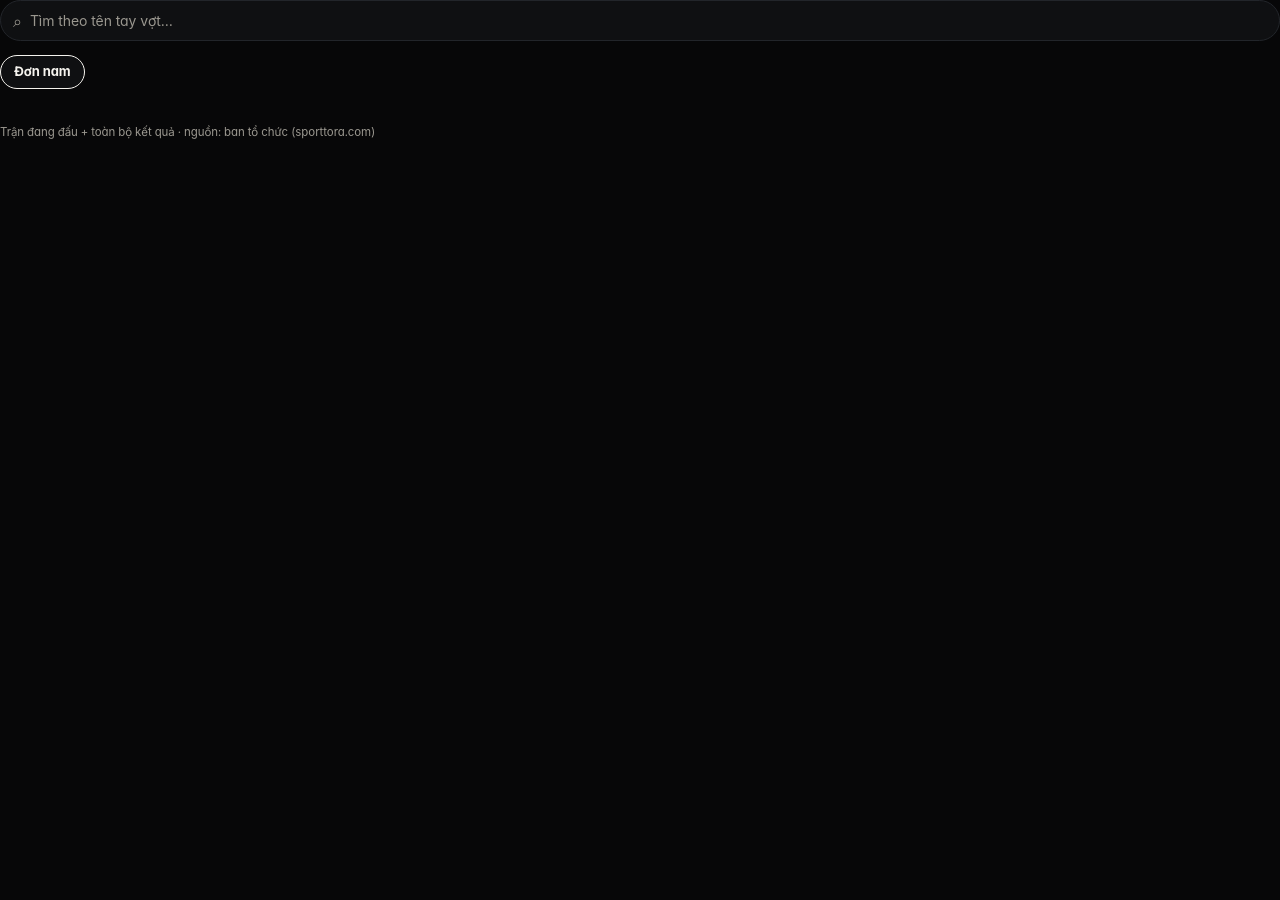
WorldCupProContent › shows an empty state when nothing matches, and restores on clear
Type "zzzznobody" into the search field.
click(648, 20); type("zzzznobody")  # box [30,1,1267,40]
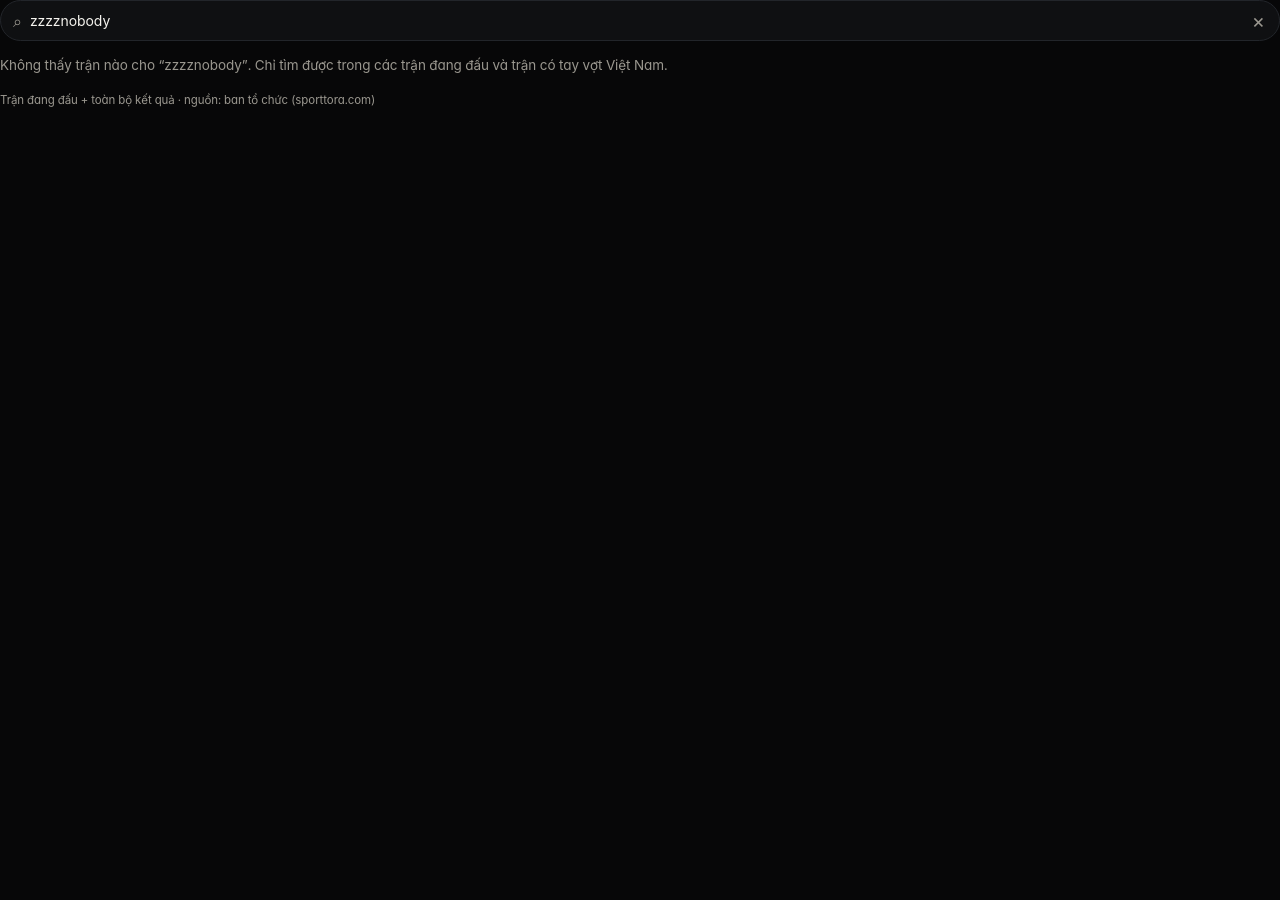
Expected: the text "Không thấy trận nào" is shown, [0,57,668,73]
Clear the search field at coordinates (636, 20), box [30,1,1242,40]
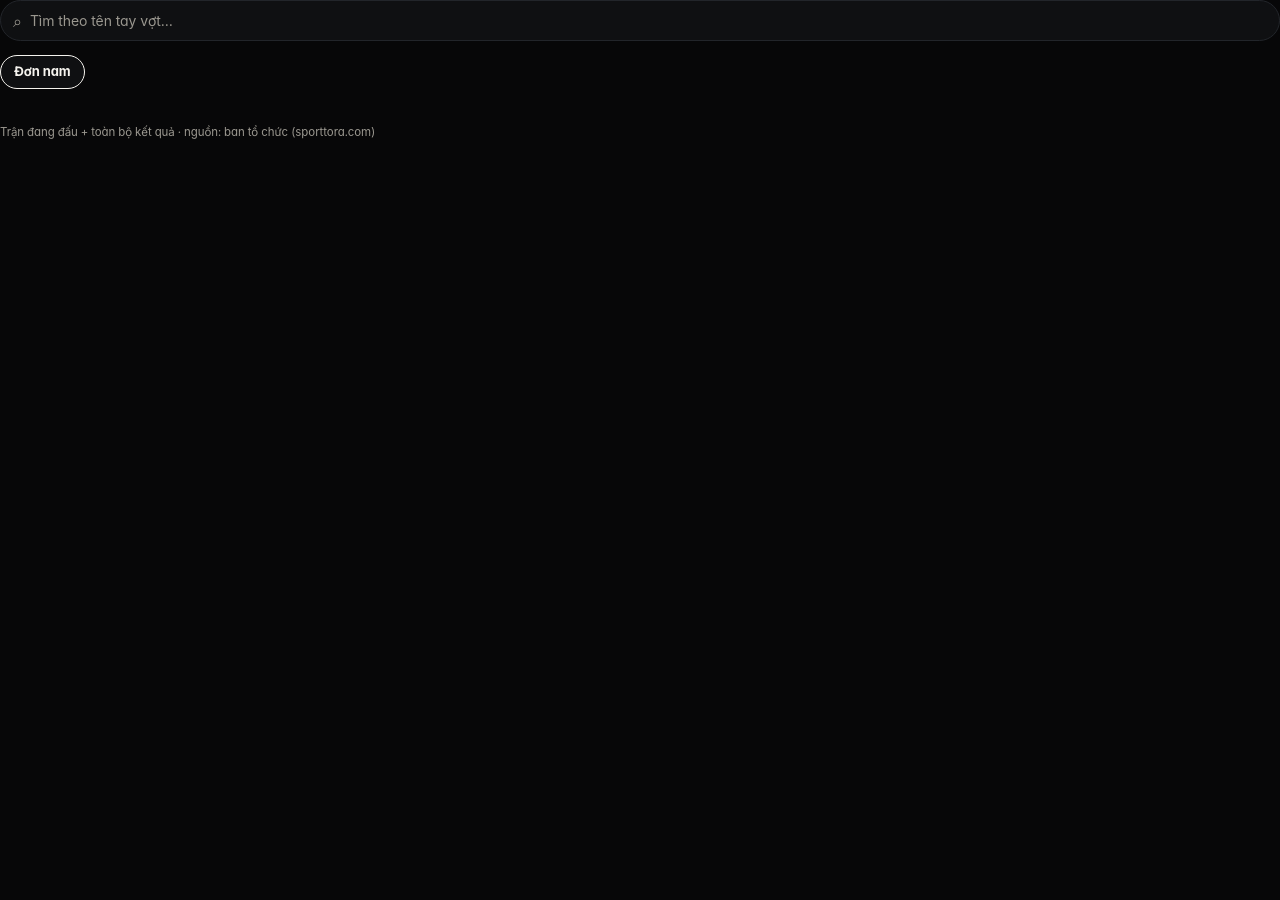
Expected: the tab with class "wcpro-subtab" is shown, [0,55,85,88]
